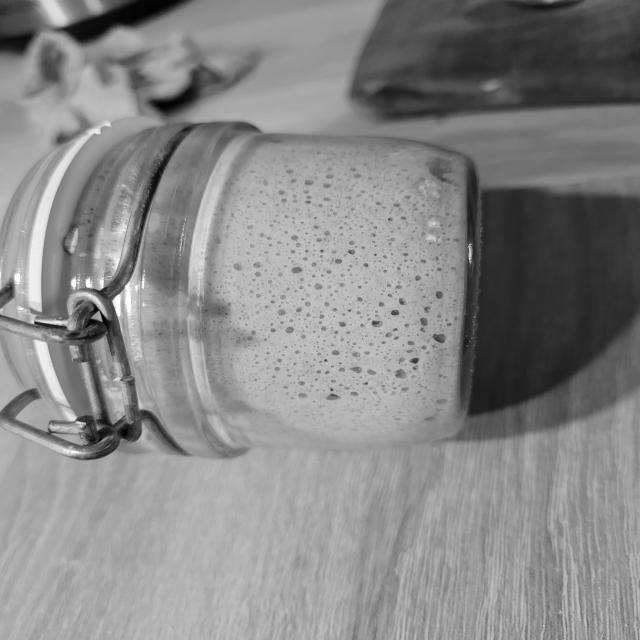bubble: (433, 334, 446, 343), (395, 370, 407, 379), (326, 394, 340, 401), (350, 366, 362, 374), (232, 262, 241, 270), (371, 321, 382, 327), (291, 267, 302, 273), (420, 318, 428, 326), (314, 283, 323, 290), (352, 352, 362, 358), (366, 370, 378, 375), (410, 358, 420, 364), (436, 291, 443, 299), (349, 392, 360, 397), (285, 327, 294, 333), (277, 309, 286, 315), (252, 262, 261, 268), (347, 249, 356, 255), (298, 393, 308, 398), (378, 301, 385, 308), (424, 306, 431, 313), (305, 179, 313, 185), (385, 332, 393, 338), (414, 275, 422, 281), (407, 340, 415, 346), (349, 166, 357, 172), (404, 194, 412, 200), (401, 387, 410, 392), (323, 197, 332, 202), (285, 168, 294, 173), (399, 298, 405, 305), (310, 262, 317, 268), (305, 194, 312, 200), (334, 259, 342, 264), (391, 310, 399, 315), (323, 183, 331, 188), (298, 381, 306, 386), (325, 269, 333, 274), (338, 367, 346, 372), (406, 349, 414, 354), (419, 345, 427, 350), (247, 225, 255, 230), (348, 240, 356, 245), (353, 173, 361, 178), (354, 193, 362, 198), (404, 323, 410, 329), (262, 179, 268, 185), (332, 350, 339, 355), (291, 235, 298, 240), (339, 322, 346, 327), (304, 302, 311, 307), (320, 326, 327, 331), (296, 308, 303, 313), (255, 272, 262, 277), (247, 336, 254, 341), (270, 328, 277, 333), (274, 367, 281, 372), (277, 272, 284, 277), (315, 369, 322, 374), (436, 267, 443, 272), (362, 263, 369, 268), (338, 282, 345, 287), (393, 336, 400, 341), (330, 379, 337, 384), (295, 242, 302, 247), (278, 190, 285, 195), (389, 237, 396, 242), (420, 231, 427, 236), (398, 358, 405, 363), (326, 174, 334, 178), (395, 285, 403, 289), (344, 195, 352, 199), (324, 230, 330, 235), (324, 302, 330, 307), (357, 297, 363, 302), (300, 334, 306, 339), (280, 295, 286, 300), (299, 277, 305, 282), (340, 273, 346, 278), (316, 352, 322, 357), (387, 293, 393, 298), (281, 198, 287, 203), (373, 226, 379, 231), (312, 216, 318, 221), (360, 245, 366, 250), (286, 374, 293, 378), (363, 351, 370, 355), (400, 216, 407, 220), (261, 202, 268, 206), (291, 179, 298, 183), (302, 189, 309, 193), (251, 330, 256, 335), (323, 358, 328, 363), (259, 232, 264, 237), (435, 256, 440, 261), (285, 287, 291, 291), (311, 274, 317, 278), (256, 294, 262, 298), (292, 362, 298, 366), (333, 331, 339, 335), (357, 285, 363, 289), (267, 236, 273, 240), (249, 244, 255, 248), (290, 249, 296, 253), (316, 238, 322, 242), (305, 201, 311, 205), (385, 217, 393, 220), (394, 203, 400, 207), (318, 249, 324, 253), (302, 257, 308, 261), (402, 252, 408, 256), (421, 259, 427, 263), (445, 212, 451, 216), (346, 309, 352, 313), (392, 328, 398, 332), (294, 351, 301, 354), (367, 343, 374, 346), (319, 315, 324, 319), (277, 359, 282, 363), (264, 305, 269, 309), (267, 280, 272, 284), (285, 368, 290, 372), (387, 283, 392, 287), (356, 311, 361, 315), (360, 324, 365, 328), (284, 215, 289, 219), (313, 225, 318, 229), (371, 233, 376, 237), (376, 201, 381, 205), (383, 269, 388, 273), (332, 308, 337, 312), (413, 367, 418, 371), (388, 242, 393, 246), (396, 267, 401, 271), (292, 199, 297, 203), (367, 177, 373, 180), (271, 300, 275, 304), (325, 371, 329, 375), (278, 241, 282, 245), (339, 226, 343, 230), (350, 207, 354, 211), (413, 203, 417, 207), (269, 224, 274, 227), (360, 190, 365, 193), (304, 249, 309, 252), (383, 255, 388, 258), (331, 250, 336, 253), (413, 207, 418, 210), (421, 203, 426, 206), (381, 341, 386, 344), (284, 346, 288, 349), (280, 322, 284, 325), (289, 319, 293, 322), (403, 259, 407, 262), (293, 193, 296, 197), (371, 240, 376, 242), (339, 233, 343, 235), (359, 225, 363, 227), (374, 253, 376, 256), (374, 245, 376, 247)
